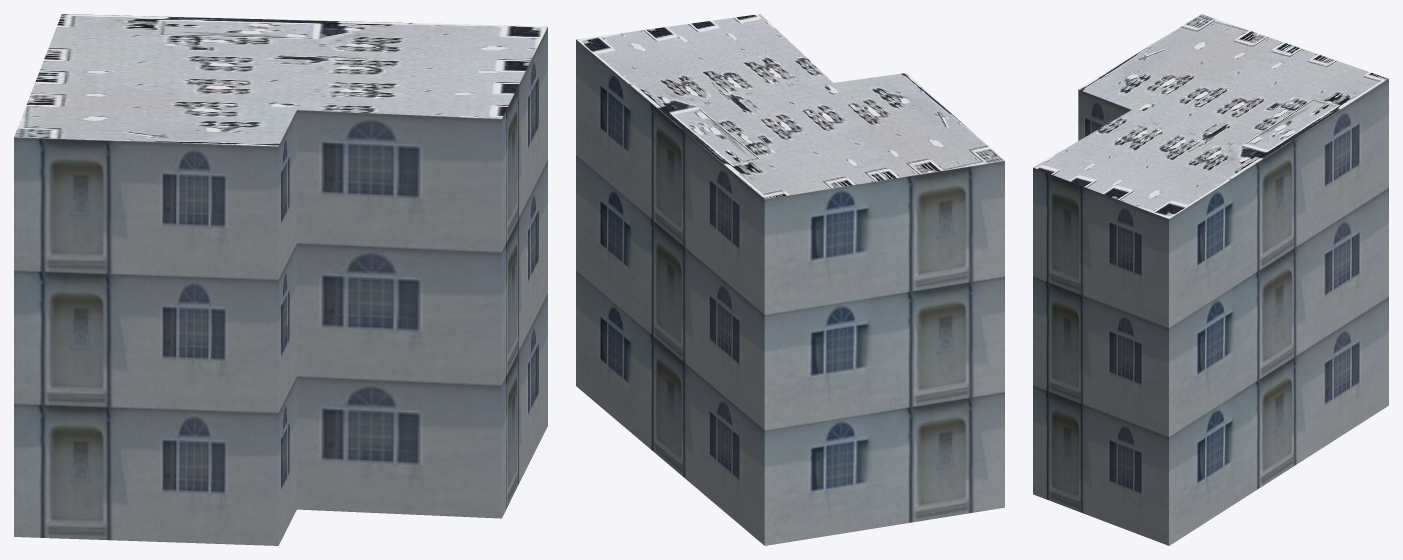
Rendered from ResTex__3354.fbx.
3 views of the same model, side by side, from view 1: azimuth 30°, elevation 25°; view 2: azimuth 150°, elevation 25°; view 3: azimuth 270°, elevation 25° (orthographic). The views are drawn at different scales.
Parts seen in each view (by area): view 1: CityEngineMaterial_17_m, CityEngineMaterial_m; view 2: CityEngineMaterial_17_m, CityEngineMaterial_m; view 3: CityEngineMaterial_17_m, CityEngineMaterial_m.
Boxes of the visible parts, left/top/right/bottom form: CityEngineMaterial_17_m: left=14, top=27, right=547, bottom=545; CityEngineMaterial_m: left=14, top=14, right=547, bottom=146; CityEngineMaterial_17_m: left=576, top=39, right=1004, bottom=545; CityEngineMaterial_m: left=576, top=14, right=1004, bottom=199; CityEngineMaterial_17_m: left=1033, top=79, right=1388, bottom=545; CityEngineMaterial_m: left=1033, top=14, right=1388, bottom=218.
Bounding box in the file's own units: 12.12 × 9 × 8.88.
2 materials, 2 textured.
